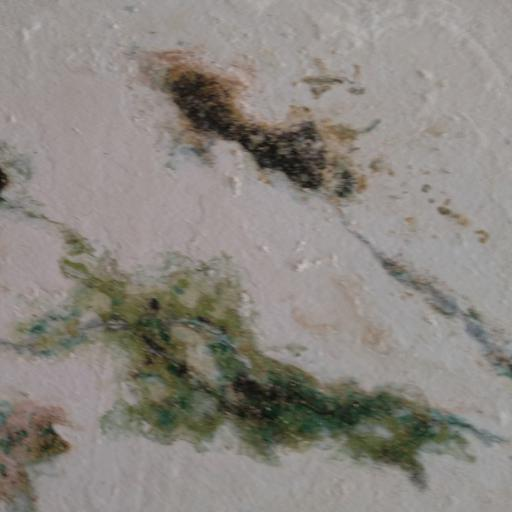algae: (43, 34, 467, 488)
